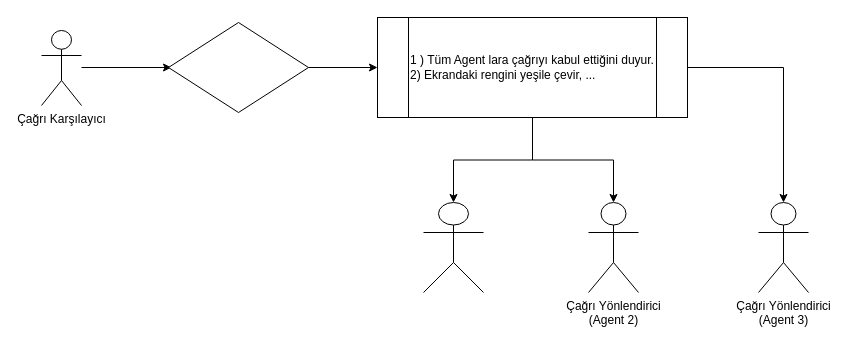
Image size: 848x346. Some labels were removed from this diagram. Here are the shapes that lost their labels. From the top down, the centre of each, then its label:
At (238,67): "Çağrıyı Kabul Et".
At (453,247): "Çağrı Yönlendirici (Agent 1)".
